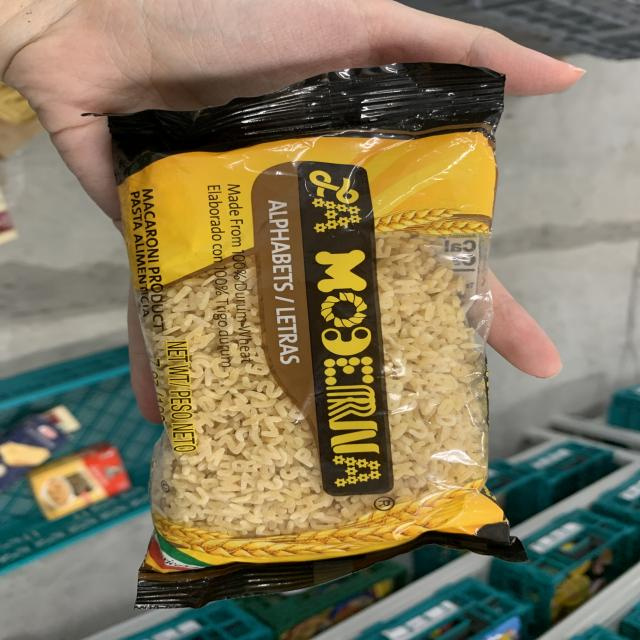object_name: (117, 115, 498, 556)
